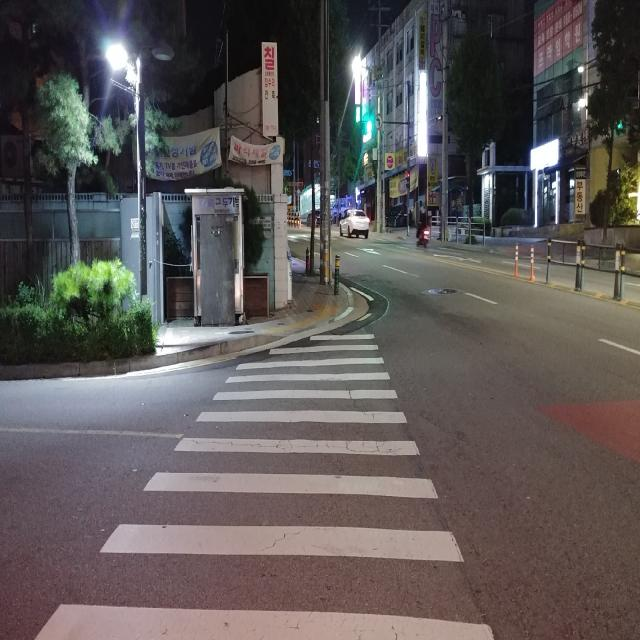횡단보도: (34, 330, 493, 640)
